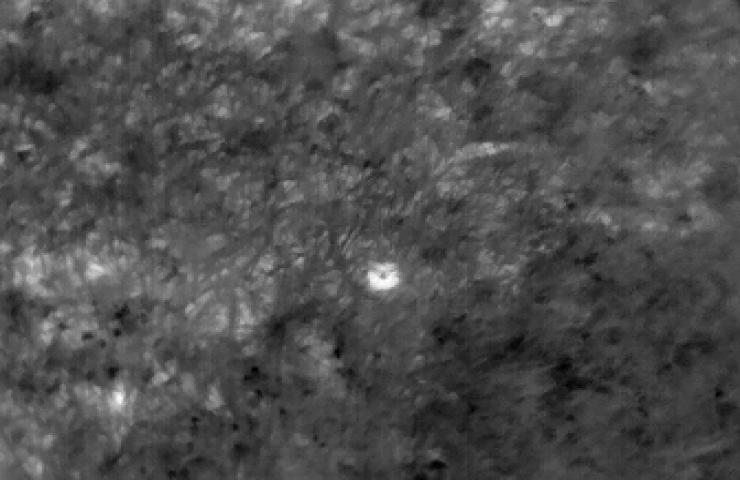landmines: (366, 258, 404, 293)
